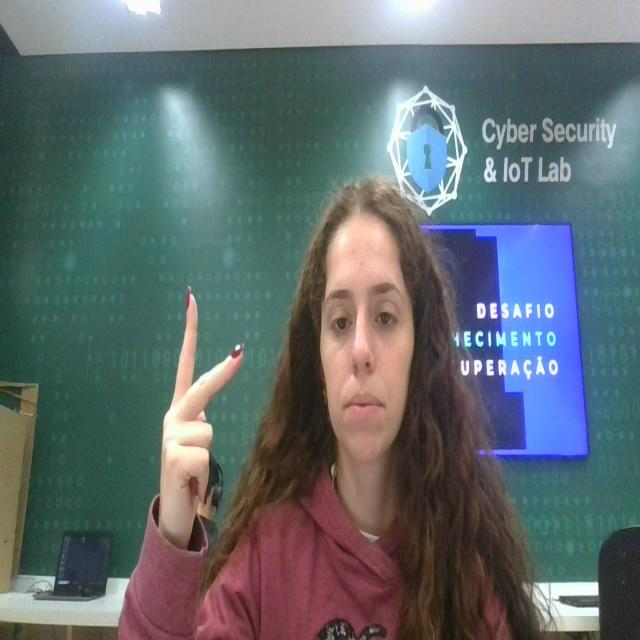K: (158, 273, 248, 558)
